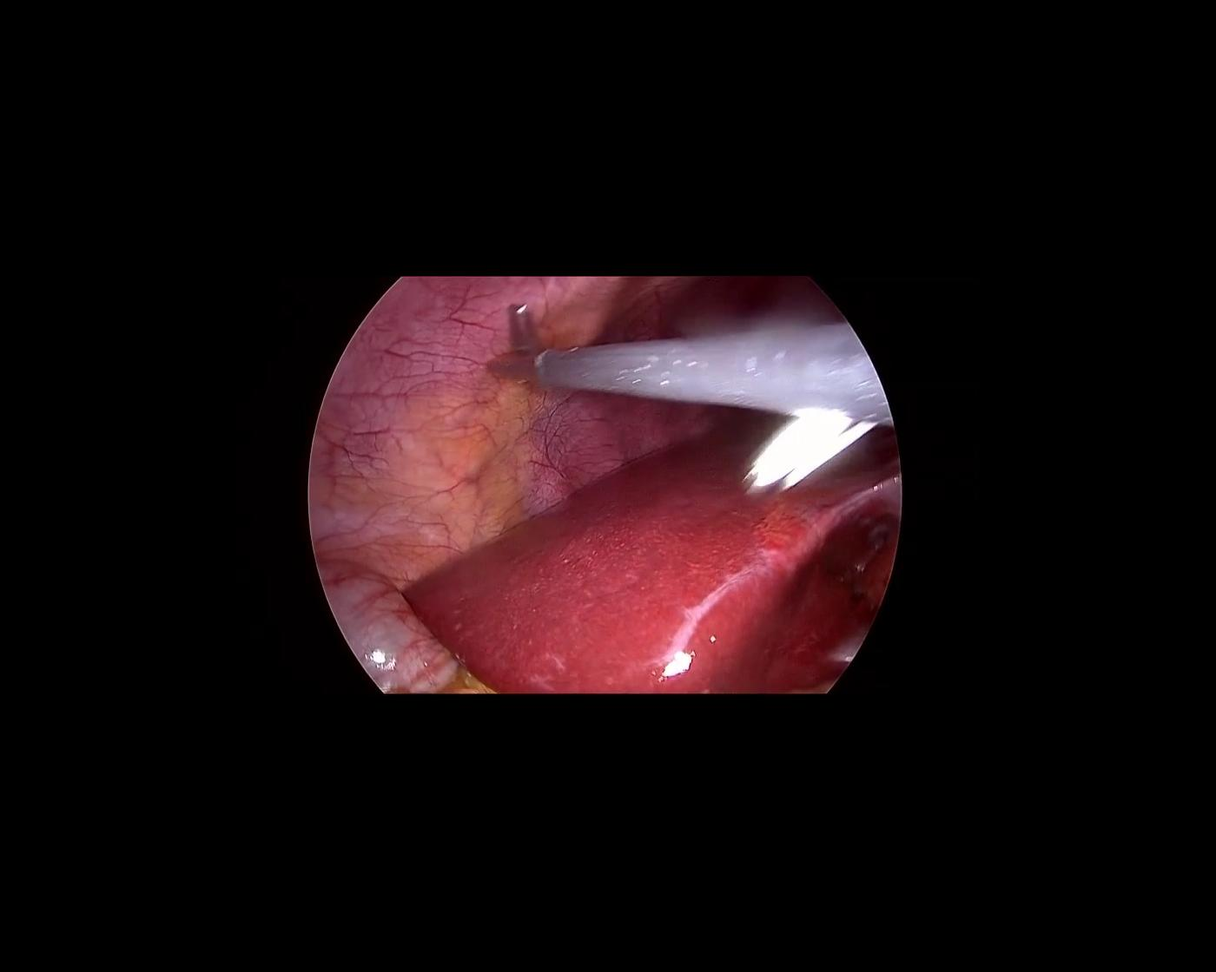Forceps: (486, 301, 901, 426)
Liver: (405, 419, 902, 691)
